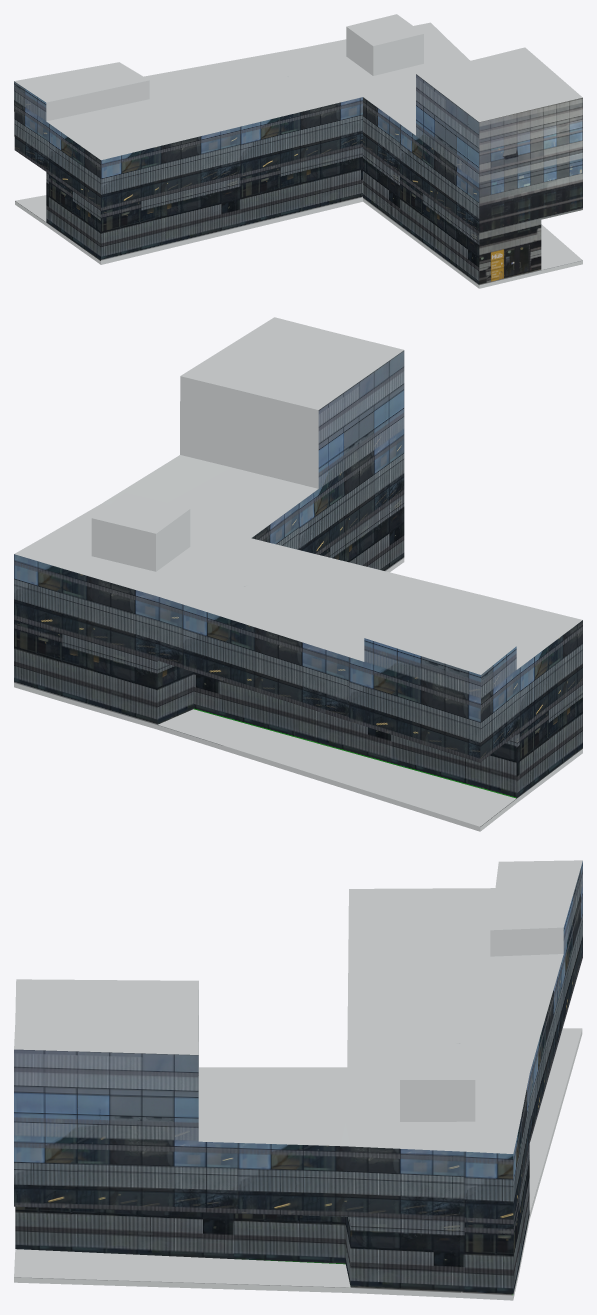
Rendered from HUB.gltf.
3 renders of one model, top to bottom at view 1: azimuth 30°, elevation 25°; view 2: azimuth 150°, elevation 25°; view 3: azimuth 270°, elevation 25°, orthographic. The views are drawn at different scales.
Parts seen in each view (by area): view 1: Box001; view 2: Box001; view 3: Box001.
Boxes of the visible parts, x1,y1,x2,y2 form: Box001: [14, 14, 582, 288]; Box001: [14, 317, 582, 831]; Box001: [14, 860, 582, 1300].
Bounding box in the file's own units: 105 × 43.06 × 94.74.
1 material, 1 textured.
